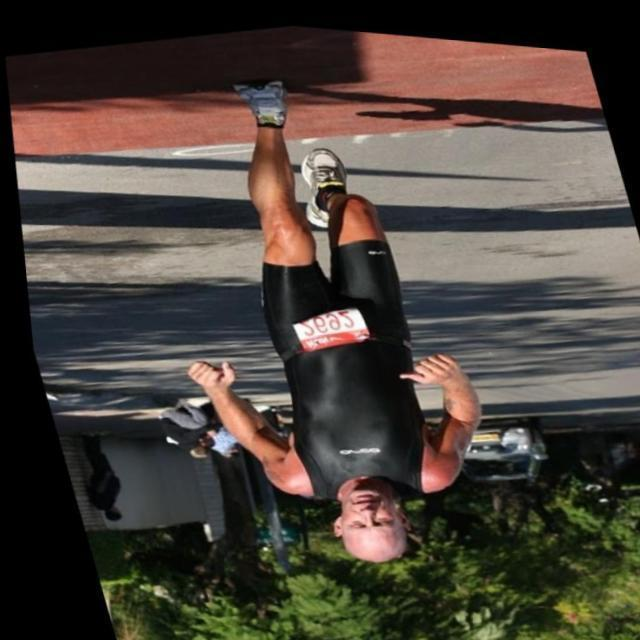dorsal: (280, 291, 374, 358)
